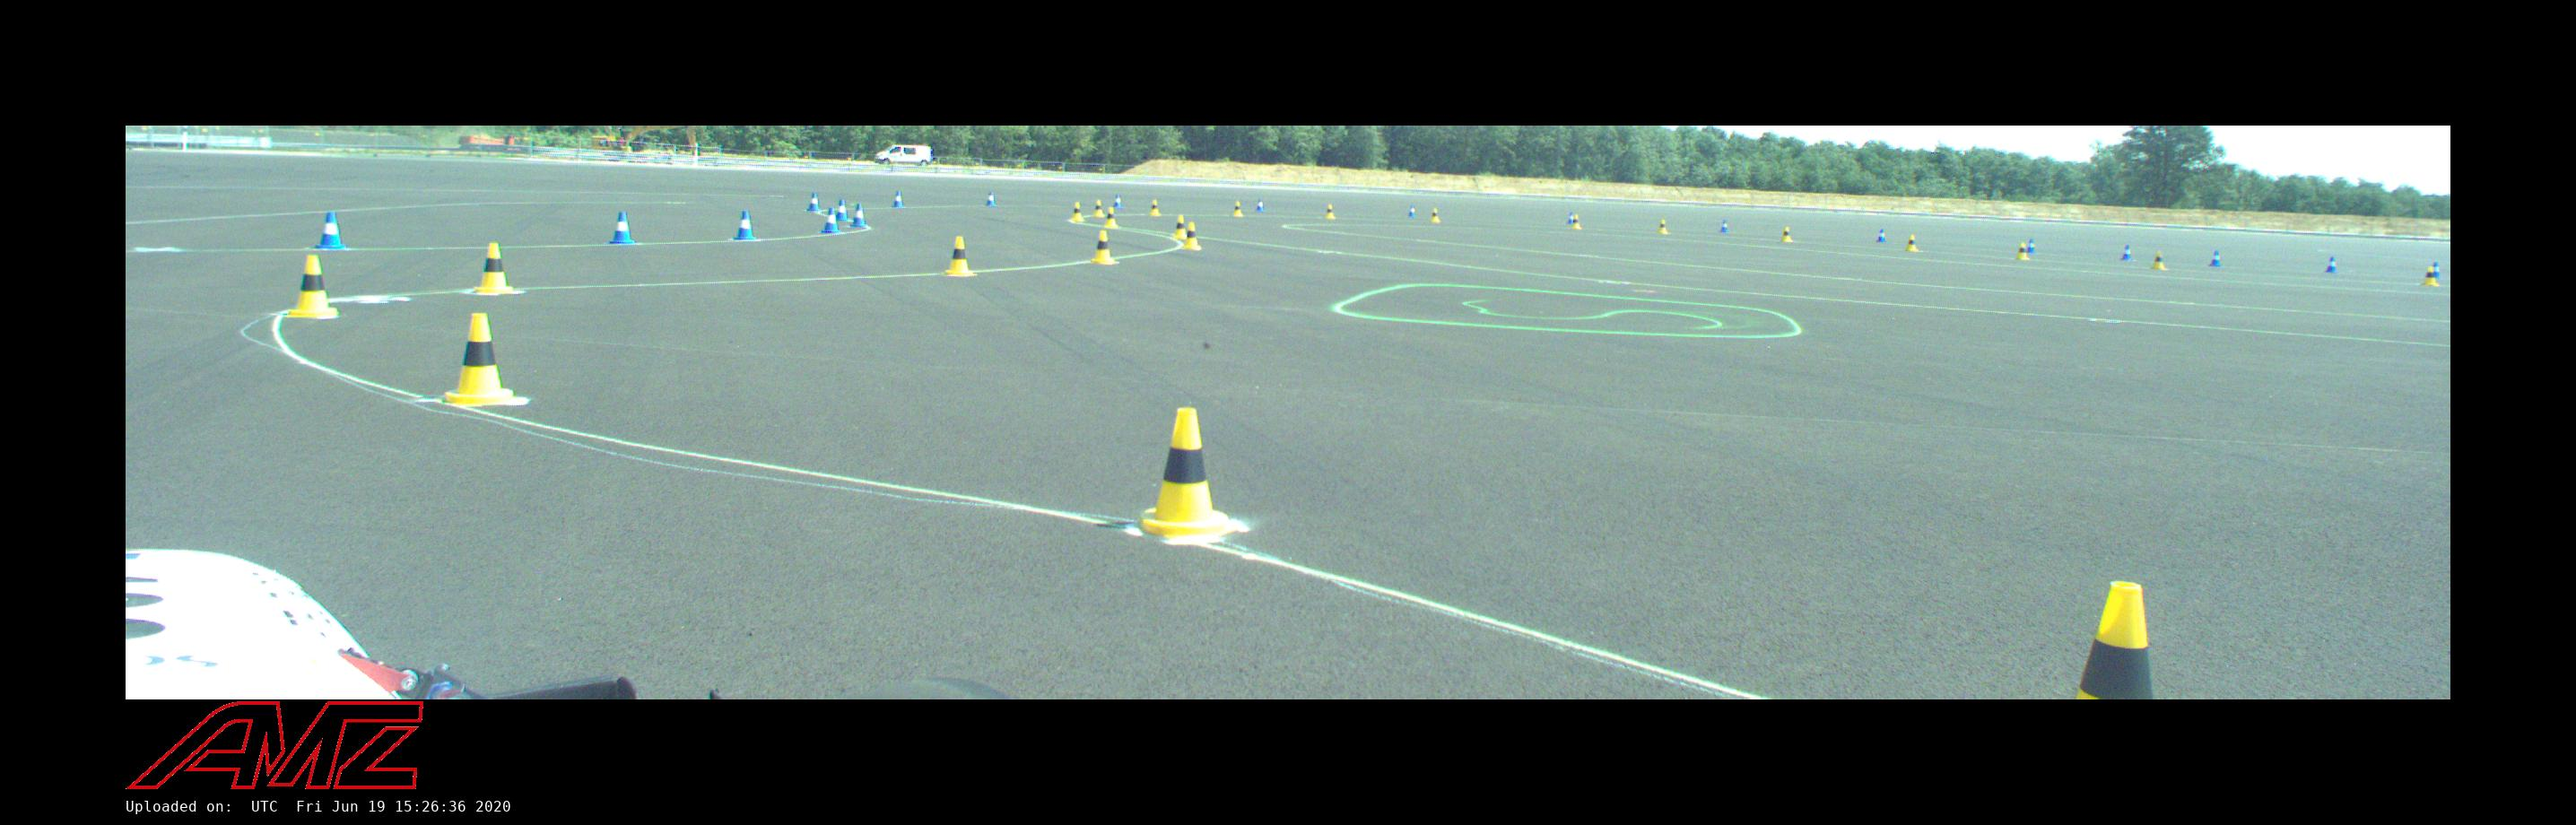blue_cone: (314, 212, 347, 250), (608, 212, 637, 243), (733, 210, 757, 240), (818, 207, 843, 233), (851, 204, 867, 228), (807, 192, 821, 212), (890, 191, 905, 209), (836, 199, 848, 220), (2323, 256, 2338, 273), (2208, 251, 2223, 266), (2121, 245, 2134, 261), (984, 192, 997, 207), (1876, 228, 1888, 243), (1406, 204, 1418, 217), (1114, 194, 1125, 207), (1718, 220, 1730, 233), (1255, 199, 1265, 212), (2027, 238, 2036, 253), (1567, 212, 1572, 225)
yellow_cone: (1138, 408, 1237, 537), (2073, 583, 2152, 700), (442, 312, 518, 404), (283, 255, 340, 317), (471, 243, 516, 293), (943, 237, 978, 276), (1089, 230, 1117, 263), (1181, 224, 1203, 250), (1171, 215, 1186, 238), (1069, 202, 1086, 222), (1104, 207, 1119, 228), (2151, 251, 2167, 270), (2014, 243, 2031, 260), (1904, 235, 1919, 251), (1091, 200, 1106, 217), (1148, 199, 1161, 217), (1779, 227, 1792, 242), (1656, 220, 1669, 233), (1232, 202, 1244, 217), (1324, 204, 1336, 219), (1429, 209, 1441, 222), (1572, 215, 1582, 228)
